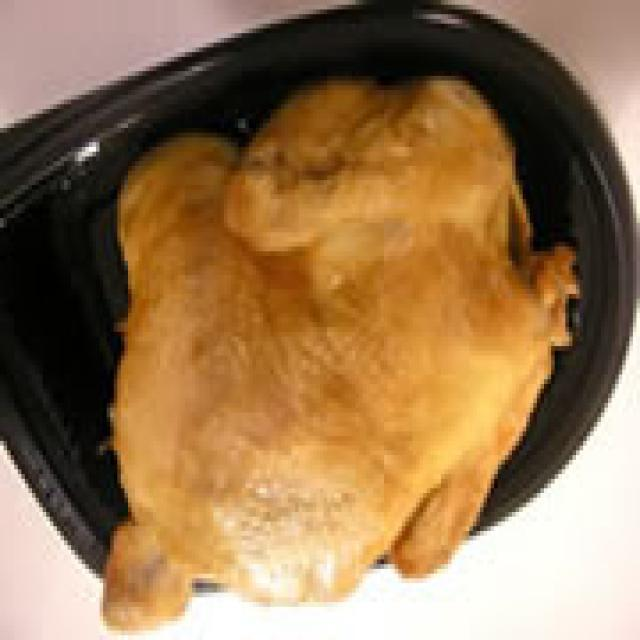Chicken: (70, 76, 578, 604)
